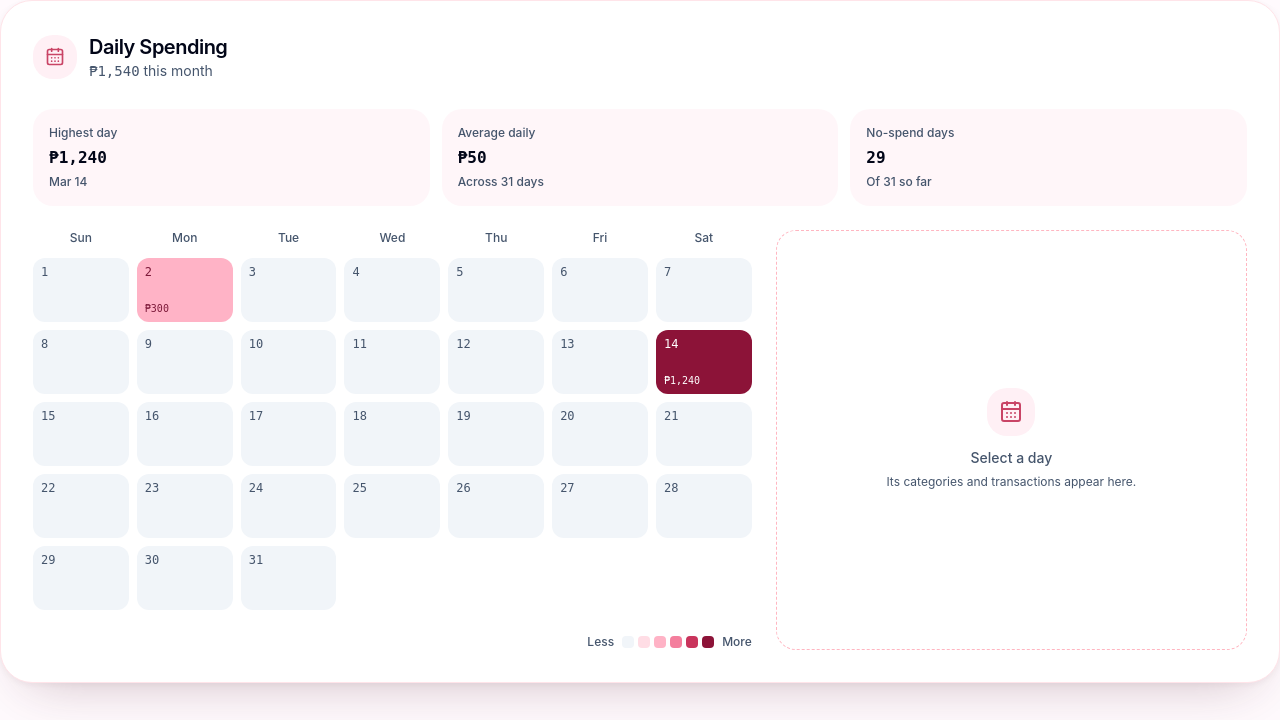
Scenario: DailySpendingCalendarSection › opens the detail panel for the selected day
Click the button named "March 14, 2026 — ₱1,240.00 across 3 transactions" at (704, 362), box [656, 330, 752, 394]
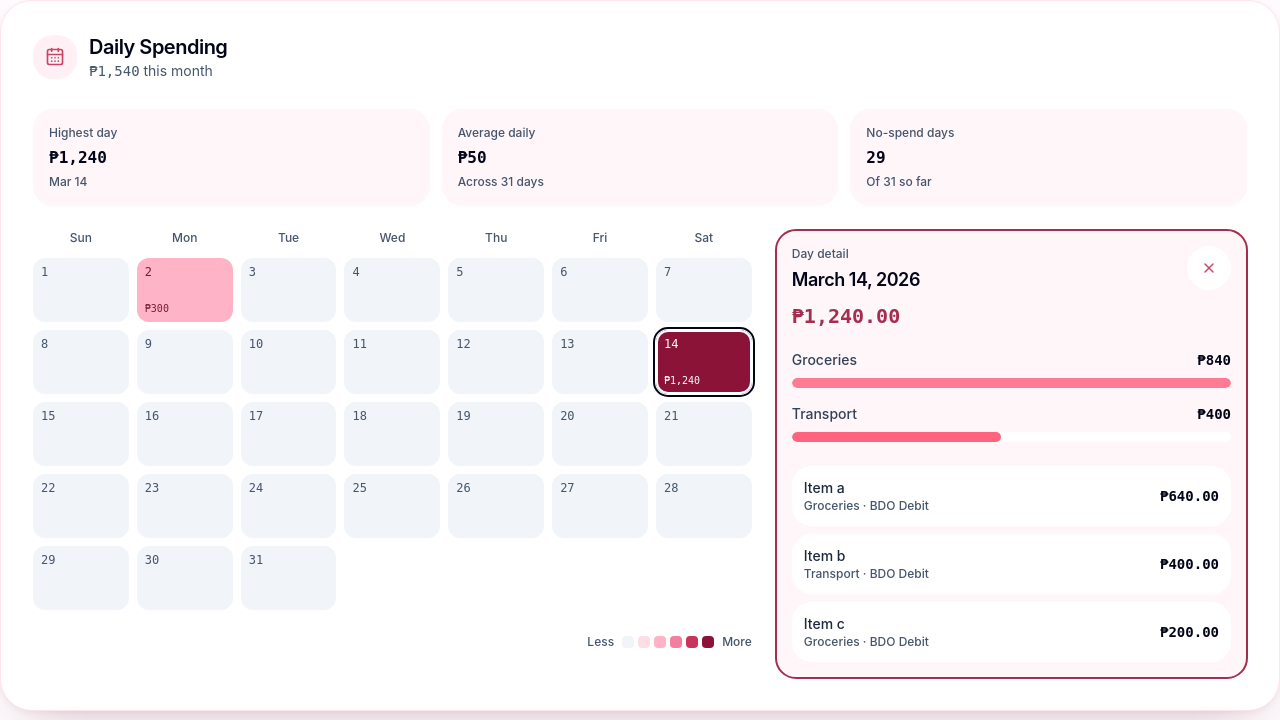
expect the element named "Spending on March 14, 2026" is shown: met, box [776, 230, 1247, 678]
expect the text "Groceries" is shown: met, box [792, 350, 857, 370]
expect the text "Transport" is shown: met, box [792, 404, 857, 424]
